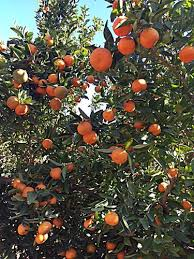orange: (90, 45, 113, 75), (139, 28, 162, 50), (113, 15, 134, 36), (115, 37, 136, 56), (110, 148, 128, 165), (101, 211, 121, 226), (77, 119, 93, 135)
